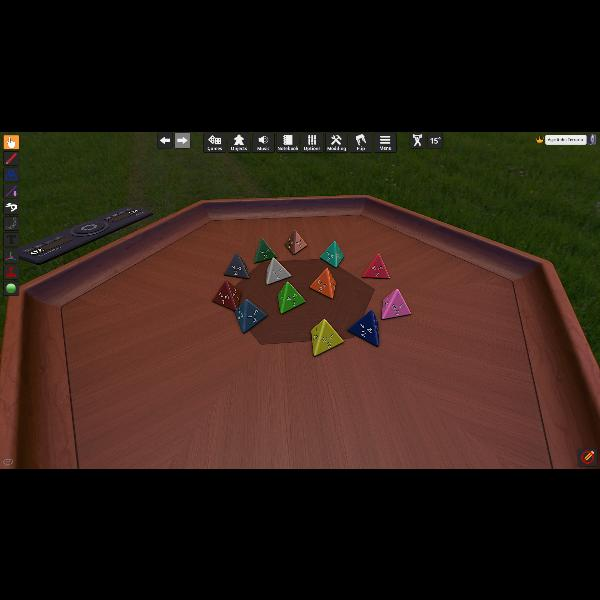d4: (311, 318, 344, 356), (349, 309, 379, 346), (236, 298, 268, 332), (212, 279, 242, 311), (278, 280, 306, 314), (382, 289, 410, 320), (265, 256, 291, 286), (309, 268, 334, 298), (224, 252, 250, 280), (363, 252, 390, 278), (320, 240, 342, 268), (255, 238, 278, 264), (285, 230, 305, 254)
